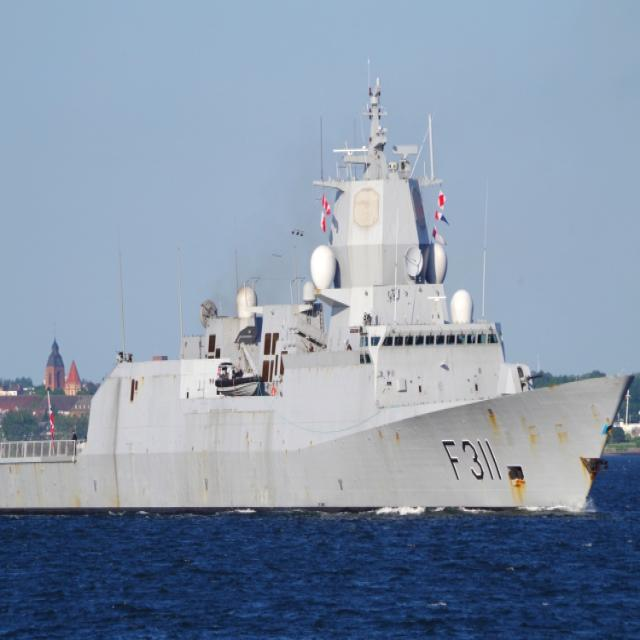Fragata: (1, 88, 639, 521)
